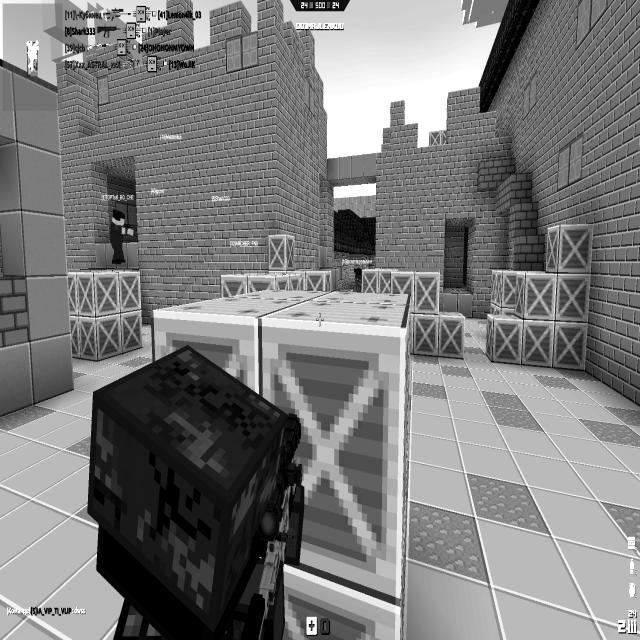Head: (87, 343, 303, 638), (112, 209, 125, 230), (354, 268, 363, 281)
Player: (108, 208, 134, 264), (352, 268, 362, 292)
